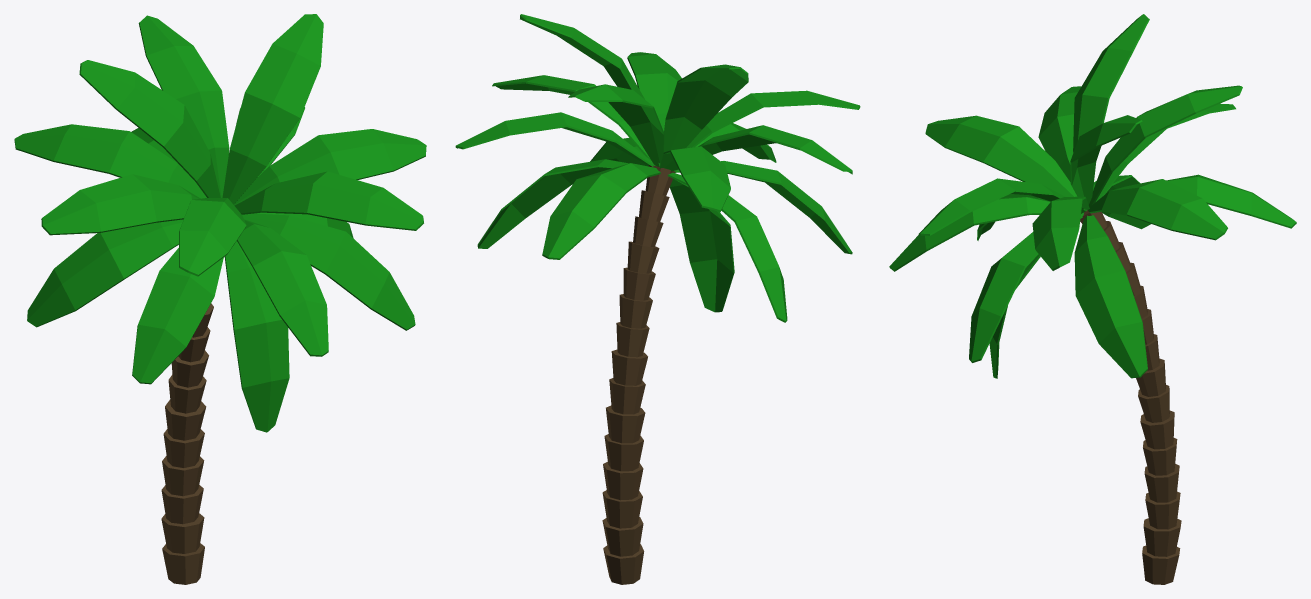
The model's file is Palm Tree.fbx.
3 views of the same model, side by side, from view 1: azimuth 30°, elevation 25°; view 2: azimuth 150°, elevation 25°; view 3: azimuth 270°, elevation 25° (orthographic). The views are drawn at different scales.
Visible parts, largest first — view 1: Cube.037, Cube.000, Cube.023, Cube.036, Cube.029, Cube.027, Cube.035, Cube.032, Cube.026, Cube.033, Cube.031, Cube.030 (+11 smaller); view 2: Cube.025, Cube.000, Cube.036, Cube.008, Cube.023, Cube.031, Cube.026, Cube.028, Cube.034, Cube.033, Cube.027, Cube.035 (+19 smaller); view 3: Cube.008, Cube.034, Cube.028, Cube.036, Cube.029, Cube.031, Cube.030, Cube.032, Cube.025, Cube.035, Cube.037, Cube.033 (+11 smaller).
Part boxes in pixels (x1,y1,x2,y2): Cube.037: (222,14,323,204); Cube.000: (224,241,289,432); Cube.023: (27,219,183,327); Cube.036: (79,60,220,197); Cube.029: (242,213,415,330); Cube.027: (132,248,223,384); Cube.035: (234,171,423,230); Cube.032: (237,219,328,356); Cube.026: (14,124,206,198); Cube.033: (41,174,200,235); Cube.031: (138,15,229,197); Cube.030: (234,129,426,205); Cube.025: (542,163,660,259); Cube.000: (669,179,734,312); Cube.036: (659,64,748,166); Cube.008: (477,159,628,248); Cube.023: (667,172,787,322); Cube.031: (568,84,664,166); Cube.026: (659,146,730,212); Cube.028: (455,112,655,166); Cube.034: (686,90,860,147); Cube.033: (698,125,852,174); Cube.027: (674,161,852,254); Cube.035: (627,52,681,131); Cube.008: (1074,215,1147,378); Cube.034: (925,115,1077,196); Cube.028: (1088,179,1227,240); Cube.036: (1073,14,1149,152); Cube.029: (969,212,1083,362); Cube.031: (1088,85,1242,206); Cube.030: (1032,196,1089,270); Cube.032: (889,197,1050,271); Cube.025: (1166,174,1296,228); Cube.035: (918,178,1086,235); Cube.037: (1070,115,1142,210); Cube.033: (1038,86,1081,181).
Size of the model in its own units: 4.64 by 6.44 by 4.62.
